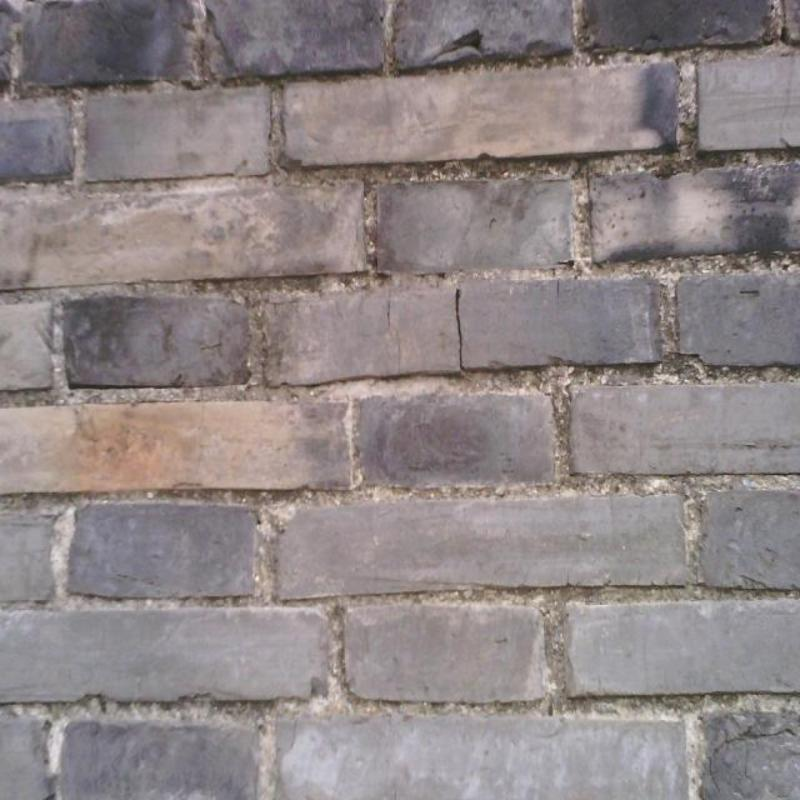crack: (708, 726, 796, 794), (432, 34, 481, 60), (387, 289, 400, 377), (454, 289, 466, 372), (557, 281, 559, 299)
